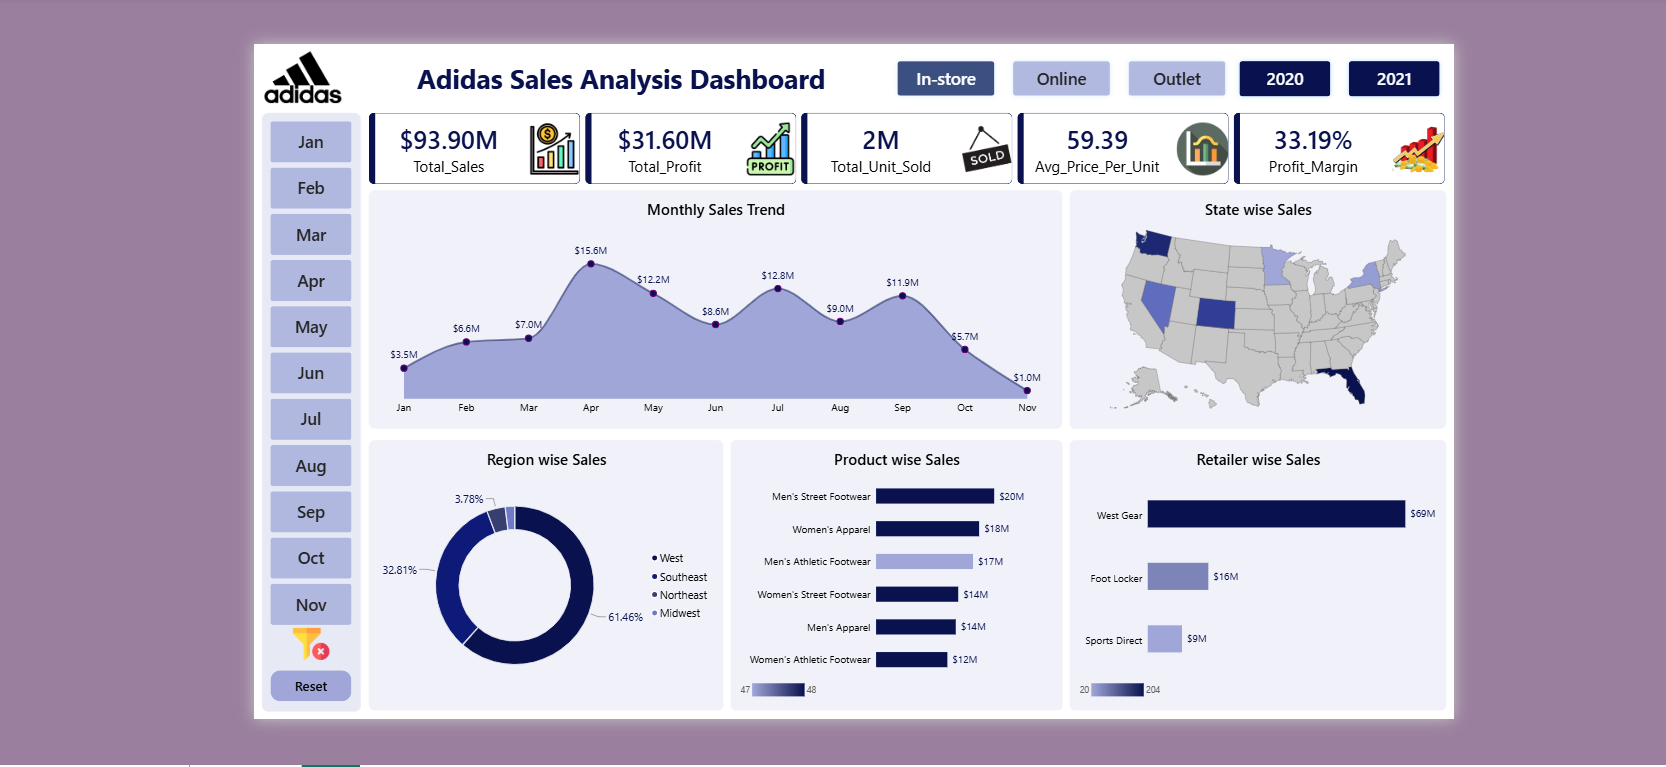

The dashboard page shown, as its layout file describes it:
{"tool":"powerbi","page":{"name":"Page 1","canvas":[1920,1080],"ordinal":0},"visuals":[{"type":"cardVisual","fields":{"Data":["Data Sales Adidas.Total_Sales","Data Sales Adidas.Total_Profit","Data Sales Adidas.Total_Unit_Sold","Data Sales Adidas.Avg_Price_Per_Unit","Data Sales Adidas.Profit_Margin"]},"box":[182.5,108.8,1727.5,116.2],"z":0},{"type":"image","box":[0,11.4,157.1,82.9],"z":1000},{"type":"textbox","box":[182.9,27.1,808.6,67.1],"z":2000},{"type":"shape","box":[12.9,108.6,160,960],"z":3000},{"type":"areaChart","title":"Monthly Sales Trend","fields":{"Category":["Data Sales Adidas.Month"],"Y":["Data Sales Adidas.Total_Sales"]},"box":[182.9,234.3,1111.4,382.9],"z":4000},{"type":"shapeMap","title":"State wise Sales","fields":{"Category":["Data Sales Adidas.State"],"Value":["Data Sales Adidas.Total_Sales"]},"box":[1305.7,234.3,604.3,382.9],"z":4001},{"type":"donutChart","title":"Region wise Sales","fields":{"Category":["Data Sales Adidas.Region"],"Y":["Data Sales Adidas.Total_Sales"]},"box":[182.9,634.3,568.6,434.3],"z":4002},{"type":"clusteredBarChart","title":"Product wise Sales","fields":{"Category":["Data Sales Adidas.Product"],"Y":["Data Sales Adidas.Total_Sales"]},"box":[761.4,634.3,532.9,434.3],"z":4003},{"type":"clusteredBarChart","title":"Retailer wise Sales","fields":{"Category":["Data Sales Adidas.Retailer"],"Y":["Data Sales Adidas.Total_Sales"]},"box":[1305.7,634.3,604.3,434.3],"z":4004},{"type":"advancedSlicerVisual","fields":{"Values":["Data Sales Adidas.Sales Method"]},"box":[1020,16.5,547.8,77.9],"z":4005},{"type":"advancedSlicerVisual","fields":{"Values":["Data Sales Adidas.Invoice Date.Variation.Date Hierarchy.Year"]},"box":[1567.1,15.7,342.9,78.6],"z":4006},{"type":"advancedSlicerVisual","fields":{"Values":["Data Sales Adidas.Month"]},"box":[27.1,124.3,130,807.1],"z":4007},{"type":"image","box":[60,931.4,64.3,58.6],"z":4008},{"type":"actionButton","box":[27.1,1001.4,130,50],"z":4009}]}

Visuals, with their boxes on the page's 1920x1080 design canvas (x1, y1, x2, y2). These are canvas units, not pixel positions in the 1666x767 screenshot, which may show the page scaled, cropped or inside an application window:
cardVisual - Data Sales Adidas.Total_Sales x Data Sales Adidas.Total_Profit: l=182, t=109, r=1910, b=225
image: l=0, t=11, r=157, b=94
textbox: l=183, t=27, r=992, b=94
shape: l=13, t=109, r=173, b=1069
"Monthly Sales Trend" areaChart: l=183, t=234, r=1294, b=617
"State wise Sales" shapeMap: l=1306, t=234, r=1910, b=617
"Region wise Sales" donutChart: l=183, t=634, r=752, b=1069
"Product wise Sales" clusteredBarChart: l=761, t=634, r=1294, b=1069
"Retailer wise Sales" clusteredBarChart: l=1306, t=634, r=1910, b=1069
advancedSlicerVisual - Data Sales Adidas.Sales Method: l=1020, t=16, r=1568, b=94
advancedSlicerVisual - Data Sales Adidas.Invoice Date.Variation.Date Hierarchy.Year: l=1567, t=16, r=1910, b=94
advancedSlicerVisual - Data Sales Adidas.Month: l=27, t=124, r=157, b=931
image: l=60, t=931, r=124, b=990
actionButton: l=27, t=1001, r=157, b=1051
